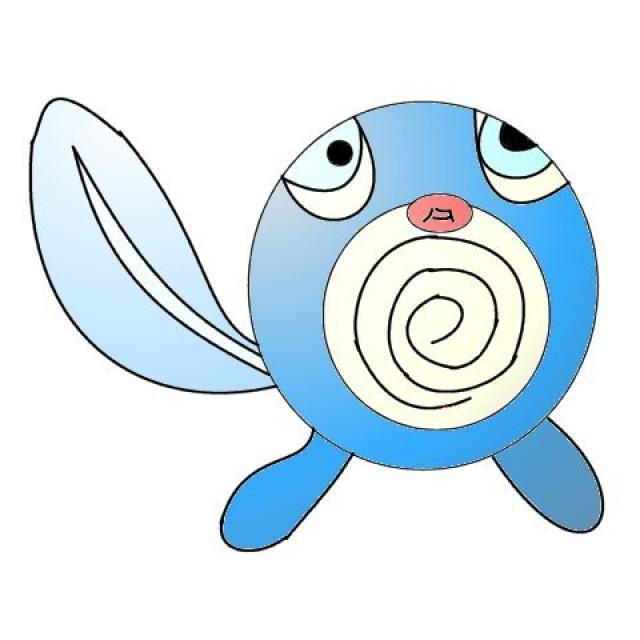Poliwag: (247, 98, 604, 471)
